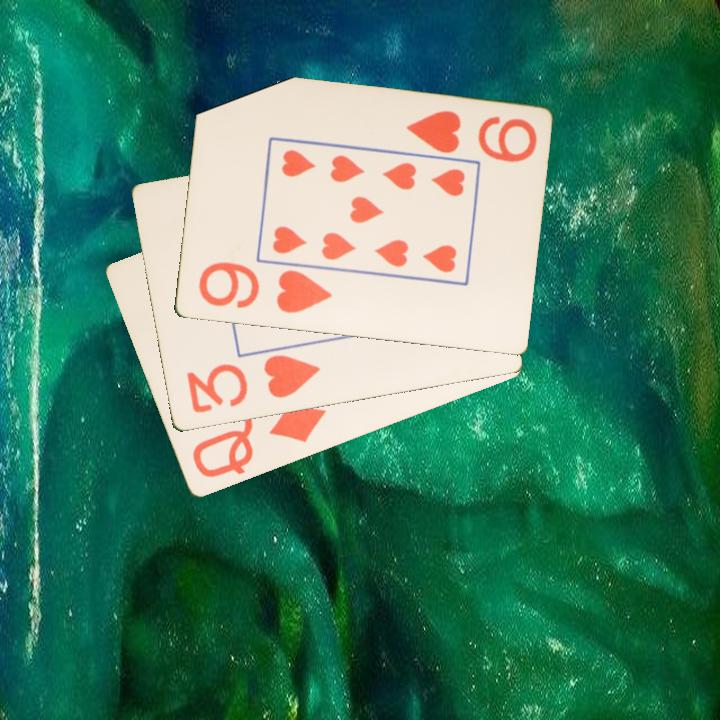3h: (183, 351, 323, 417)
9h: (194, 259, 335, 317), (402, 107, 540, 165)
Qd: (188, 398, 329, 481)
